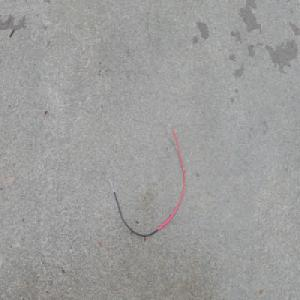Wire: (106, 121, 184, 239)
